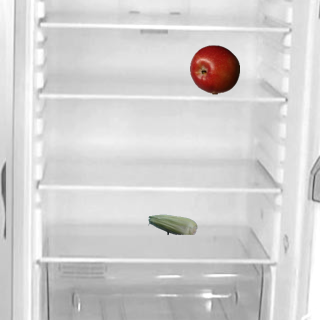Apple Braeburn: (189, 44, 239, 94)
Corn Husk: (147, 199, 197, 249)
